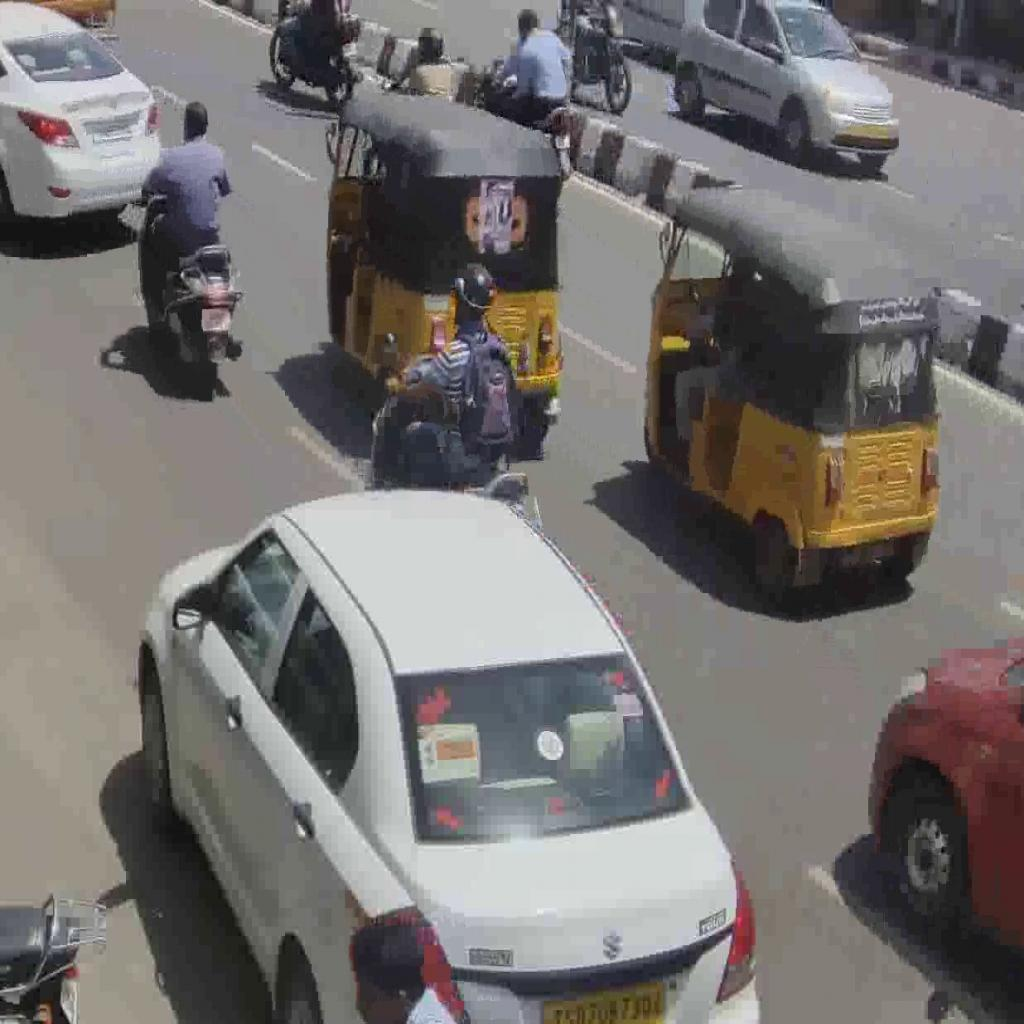bike: (364, 333, 540, 526), (137, 176, 244, 393), (476, 65, 584, 211), (270, 0, 364, 108)
helmet: (448, 258, 500, 333)
lisc: (199, 304, 230, 330), (340, 40, 356, 56), (554, 132, 570, 147)
no_helmet: (180, 100, 209, 144), (514, 8, 540, 42)
noise: (554, 1, 632, 116)
rider: (380, 256, 522, 482), (142, 100, 232, 316), (506, 7, 572, 135), (486, 21, 541, 126)
